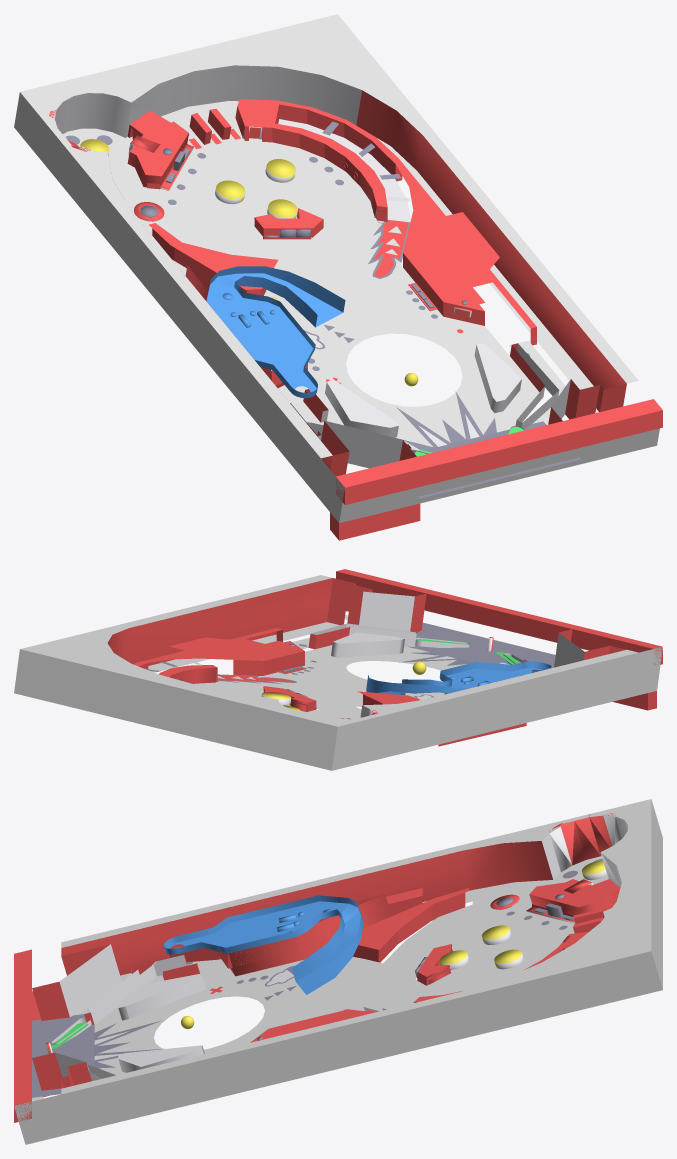
File: pinball_map_v5.glb
The picture shows the model from 3 angles, top to bottom: view 1: azimuth 30°, elevation 25°; view 2: azimuth 150°, elevation 25°; view 3: azimuth 270°, elevation 25°; orthographic projection. The views are drawn at different scales.
Parts seen in each view (by area): view 1: col_floor_playfield_blue, col_wall_frame_black, col_wall_main_outer, col_ref_floor_main, col_ramp_main, col_floor_detail, col_wall_shooter, col_wall_panel, col_ref_plunger_004, col_ref_flipper_032, col_ref_wall_002, col_bumper_group (+4 smaller); view 2: col_floor_playfield_blue, col_wall_frame_black, col_wall_main_outer, col_ramp_main, col_floor_drain, col_ref_flipper_027, col_wall_apron_2, col_wall_apron_3, col_wall_panel, col_ref_plunger_003, col_floor_detail, col_ref_flipper_032 (+3 smaller); view 3: col_floor_playfield_blue, col_wall_frame_black, col_wall_left_fill, col_ramp_main, col_ref_flipper_032, col_wall_main_outer, col_floor_drain, col_wall_shooter, col_floor_detail, col_ref_floor_main, col_wall_apron_1, col_ref_plunger_004 (+5 smaller).
Boxes of the visible parts, bbox=[...] form: col_floor_playfield_blue: bbox=[14, 14, 659, 523]; col_wall_frame_black: bbox=[132, 99, 662, 540]; col_wall_main_outer: bbox=[49, 90, 626, 389]; col_ref_floor_main: bbox=[55, 65, 471, 317]; col_ramp_main: bbox=[206, 266, 345, 398]; col_floor_detail: bbox=[65, 121, 529, 450]; col_wall_shooter: bbox=[127, 108, 463, 383]; col_wall_panel: bbox=[129, 125, 486, 274]; col_ref_plunger_004: bbox=[327, 343, 521, 427]; col_ref_flipper_032: bbox=[325, 421, 402, 468]; col_ref_wall_002: bbox=[278, 119, 410, 222]; col_bumper_group: bbox=[80, 139, 297, 217]; col_floor_playfield_blue: bbox=[14, 575, 662, 770]; col_wall_frame_black: bbox=[133, 569, 662, 746]; col_wall_main_outer: bbox=[107, 578, 493, 719]; col_ramp_main: bbox=[366, 661, 551, 694]; col_floor_drain: bbox=[408, 622, 555, 668]; col_ref_flipper_027: bbox=[359, 591, 414, 631]; col_wall_apron_2: bbox=[308, 578, 626, 653]; col_wall_apron_3: bbox=[315, 593, 609, 659]; col_wall_panel: bbox=[195, 640, 315, 704]; col_ref_plunger_003: bbox=[337, 639, 401, 657]; col_floor_detail: bbox=[145, 644, 472, 708]; col_ref_flipper_032: bbox=[554, 633, 584, 667]; col_floor_playfield_blue: bbox=[14, 799, 662, 1144]; col_wall_frame_black: bbox=[14, 880, 617, 1122]; col_wall_left_fill: bbox=[61, 841, 552, 975]; col_ramp_main: bbox=[163, 895, 363, 994]; col_ref_flipper_032: bbox=[59, 944, 121, 1016]; col_wall_main_outer: bbox=[45, 813, 614, 1053]; col_floor_drain: bbox=[32, 1014, 94, 1097]; col_wall_shooter: bbox=[210, 879, 620, 1011]; col_floor_detail: bbox=[94, 859, 602, 1068]; col_ref_floor_main: bbox=[45, 815, 627, 1053]; col_wall_apron_1: bbox=[32, 966, 199, 1087]; col_ref_plunger_004: bbox=[118, 973, 202, 1066].
Bounding box in the file's own units: 28.58 × 18.48 × 51.53.
